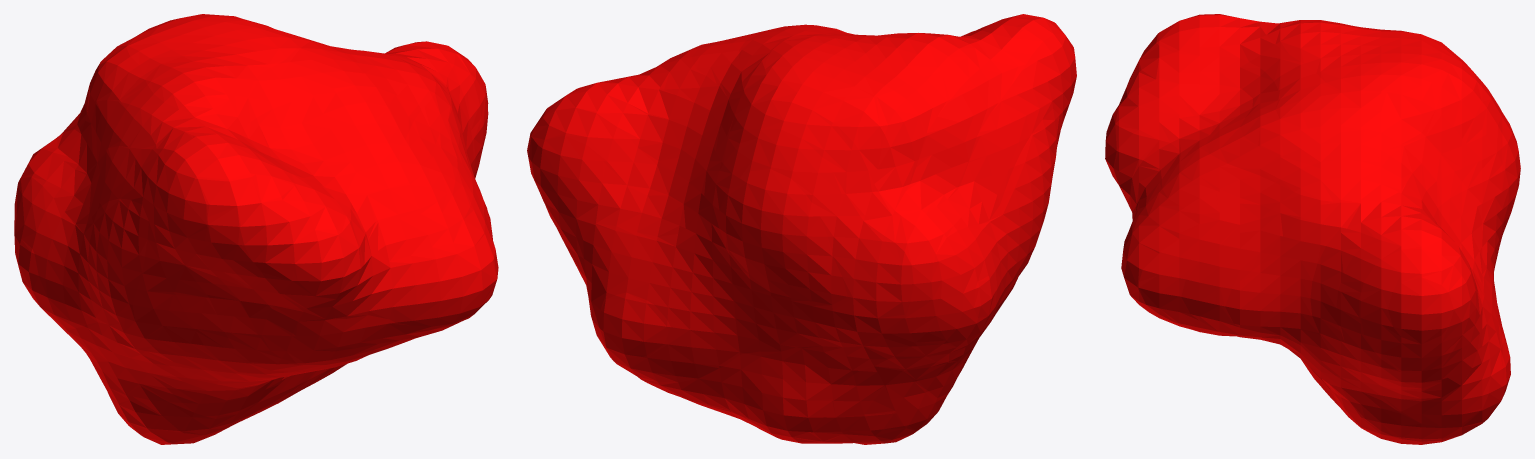
Rendered from ppnP_coarse.dae.
The picture shows the model from 3 angles, left to right: view 1: azimuth 30°, elevation 25°; view 2: azimuth 150°, elevation 25°; view 3: azimuth 270°, elevation 25°; orthographic projection. The views are drawn at different scales.
Parts seen in each view (by area): view 1: ppnP; view 2: ppnP; view 3: ppnP.
Part boxes in pixels (x1,y1,x2,y2): ppnP: (14,14,498,444); ppnP: (527,14,1076,444); ppnP: (1105,14,1520,444).
Size of the model in its own units: 39.81 by 32.24 by 33.82.
